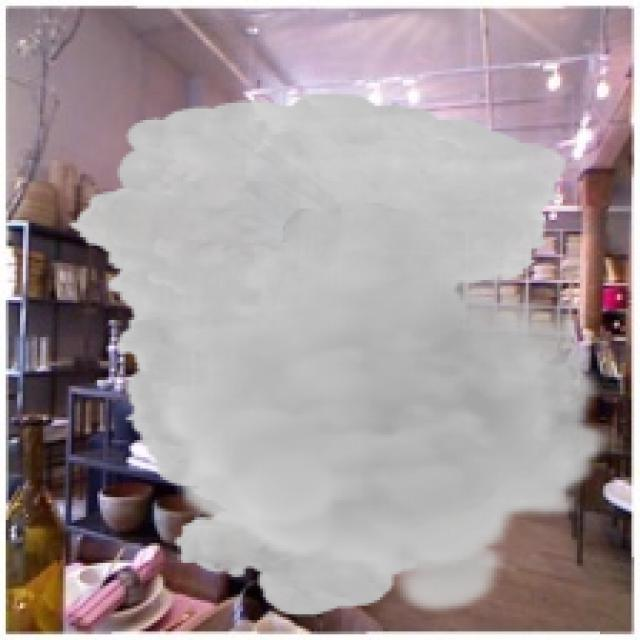smoke: (66, 92, 611, 617)
